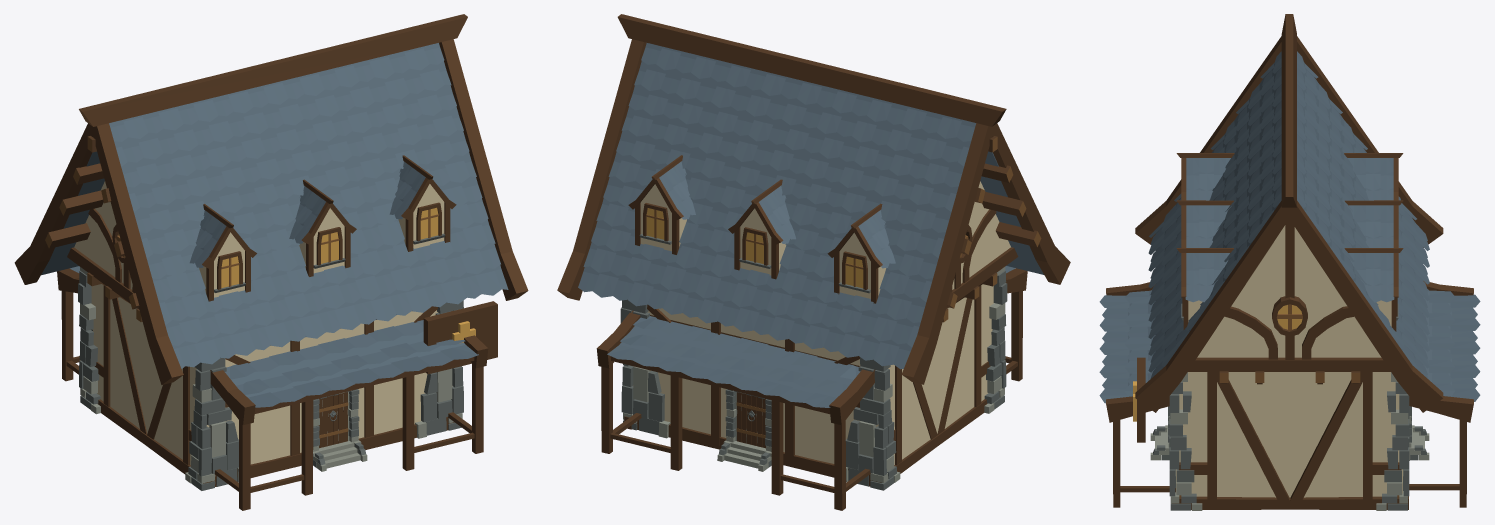
Rendered from item_shop.glb.
The picture shows the model from 3 angles, left to right: view 1: azimuth 30°, elevation 25°; view 2: azimuth 150°, elevation 25°; view 3: azimuth 270°, elevation 25°; orthographic projection. The views are drawn at different scales.
Parts seen in each view (by area): view 1: item_shop; view 2: item_shop; view 3: item_shop.
Boxes of the visible parts, <box> form: item_shop: <box>14,14,528,510</box>; item_shop: <box>557,14,1070,510</box>; item_shop: <box>1099,14,1480,510</box>.
Size of the model in its own units: 8 by 7 by 7.
